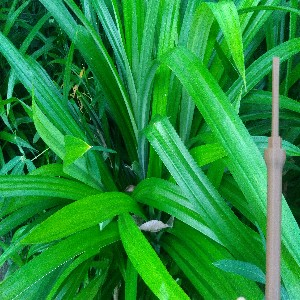obeng: (262, 56, 286, 300)
